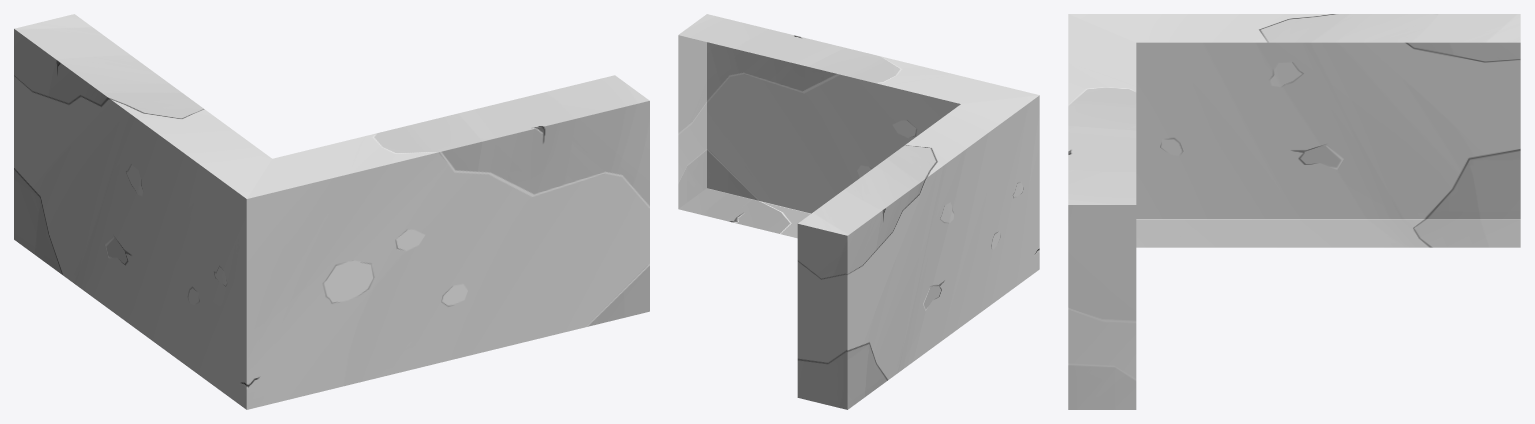
The model's file is LedgeCorner_Mod.FBX.
The picture shows the model from 3 angles, left to right: view 1: azimuth 30°, elevation 25°; view 2: azimuth 150°, elevation 25°; view 3: azimuth 270°, elevation 25°; orthographic projection. The views are drawn at different scales.
Parts seen in each view (by area): view 1: LedgeCorner; view 2: LedgeCorner; view 3: LedgeCorner.
Boxes of the visible parts, <box> form: LedgeCorner: <box>14,14,649,409</box>; LedgeCorner: <box>678,14,1039,409</box>; LedgeCorner: <box>1068,14,1520,409</box>.
Bounding box in the file's own units: 39.37 × 19.69 × 39.37.
Materials: 1 (1 with a texture image).
